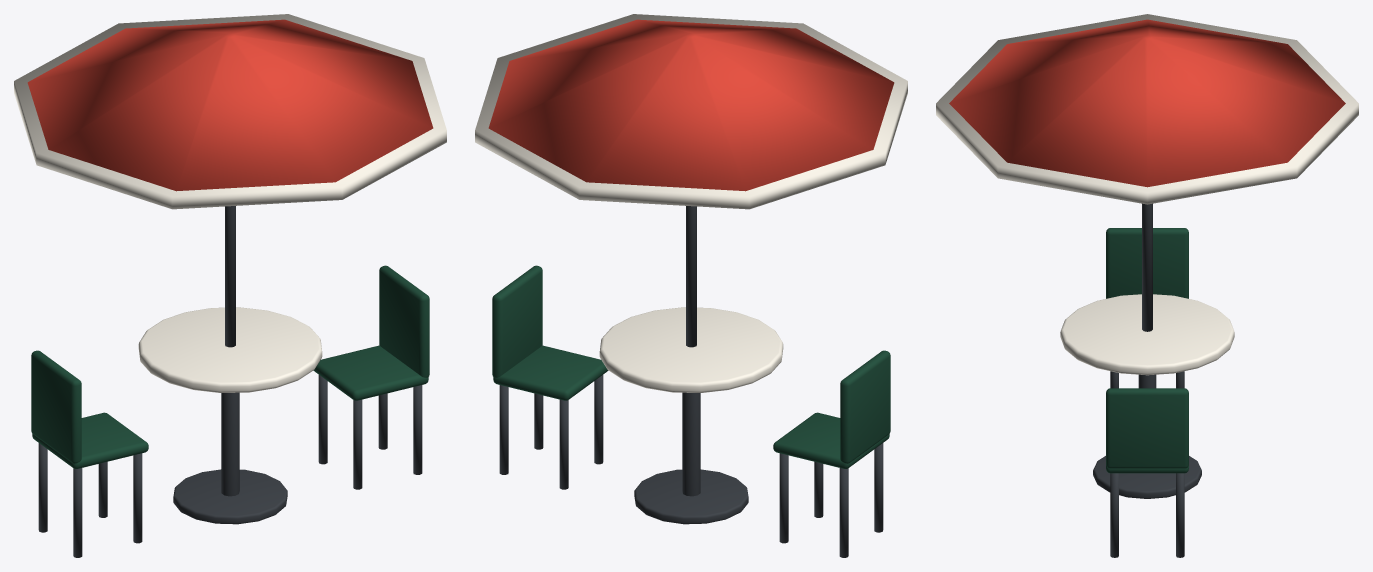
The model's file is prop_umbrella_table.glb.
3 views of the same model, side by side, from view 1: azimuth 30°, elevation 25°; view 2: azimuth 150°, elevation 25°; view 3: azimuth 270°, elevation 25° (orthographic). The views are drawn at different scales.
Visible parts, largest first — view 1: umbrella_table; view 2: umbrella_table; view 3: umbrella_table.
Boxes of the visible parts, x1,y1,x2,y2 form: umbrella_table: (14, 14, 446, 557); umbrella_table: (475, 14, 907, 557); umbrella_table: (936, 14, 1358, 557).
Size of the model in its own units: 1.94 by 2.23 by 1.94.
